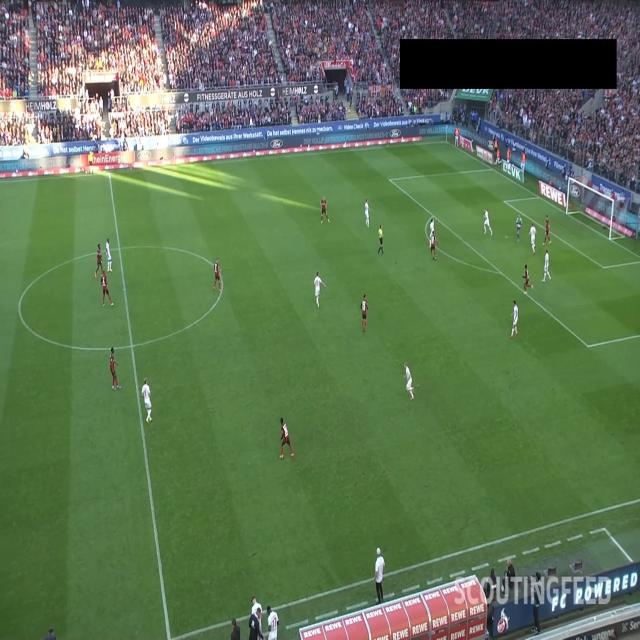ball: (517, 223, 520, 228)
